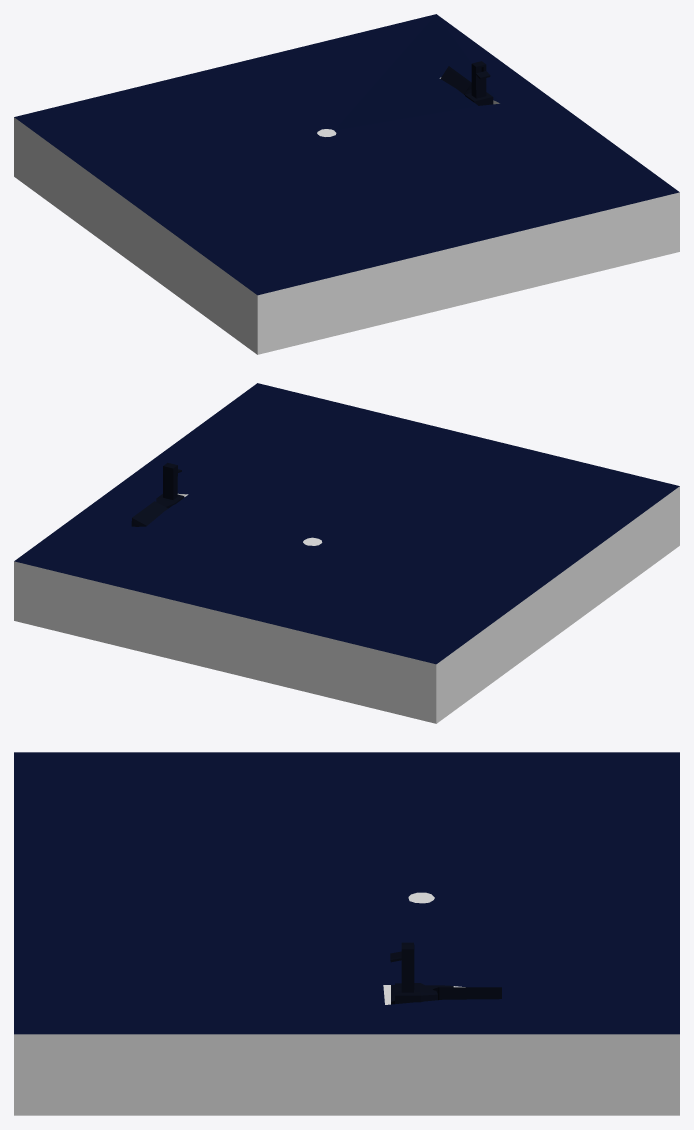
The model's file is WaterAndSewer.fbx.
3 views of the same model, one above another, from view 1: azimuth 30°, elevation 25°; view 2: azimuth 150°, elevation 25°; view 3: azimuth 270°, elevation 25° (orthographic). The views are drawn at different scales.
Visible parts, largest first — view 1: Cube.051, Cube.020; view 2: Cube.051, Cube.020; view 3: Cube.051, Cube.020.
Boxes of the visible parts, x1,y1,x2,y2 form: Cube.051: (14, 14, 679, 354); Cube.020: (440, 61, 493, 105); Cube.051: (14, 383, 679, 723); Cube.020: (131, 462, 184, 526); Cube.051: (14, 752, 679, 1115); Cube.020: (390, 942, 501, 1004).
Size of the model in its own units: 23634 by 5149 by 23598.
